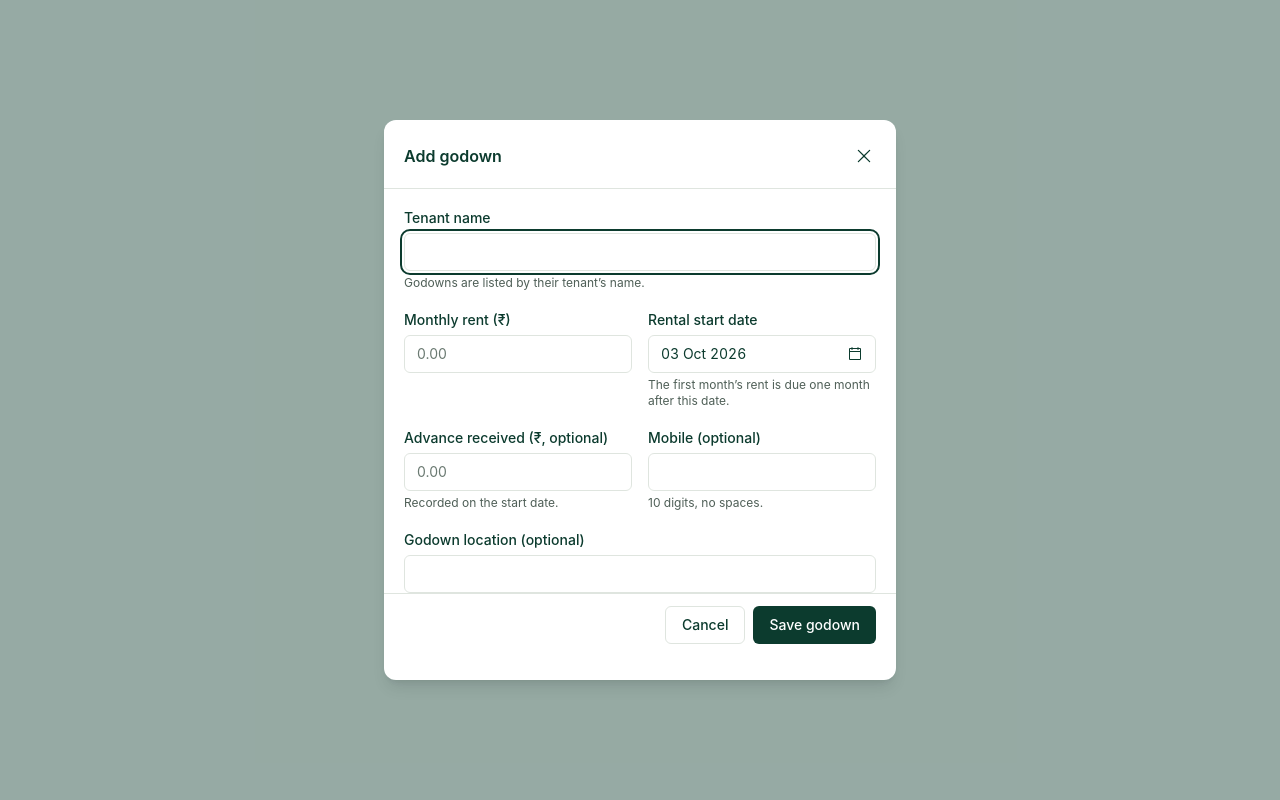
Scenario: GodownDialog (add) › shows errors and saves nothing when required fields are empty
Click the button "Save godown".
click(815, 625)  # box [753,606,876,644]
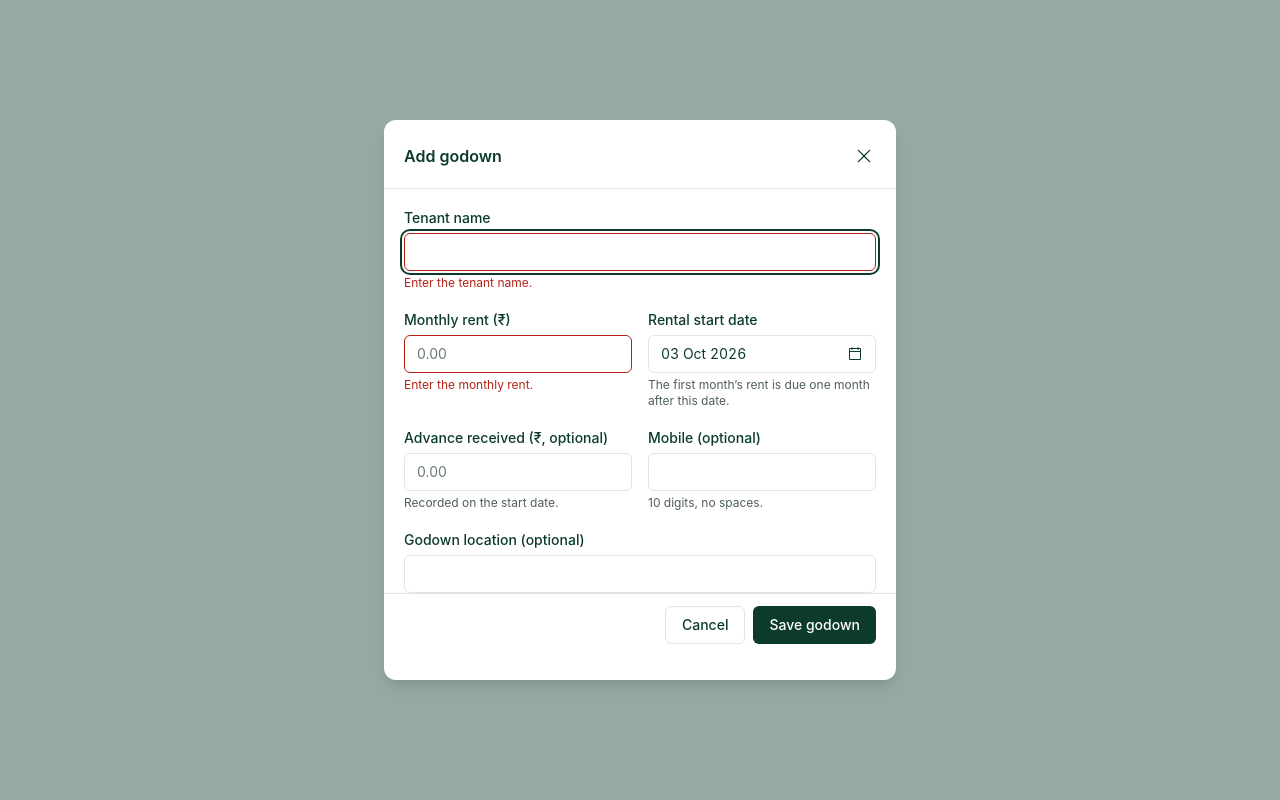
expect the text "Enter the tenant name." is shown: met, box [404,275,532,290]
